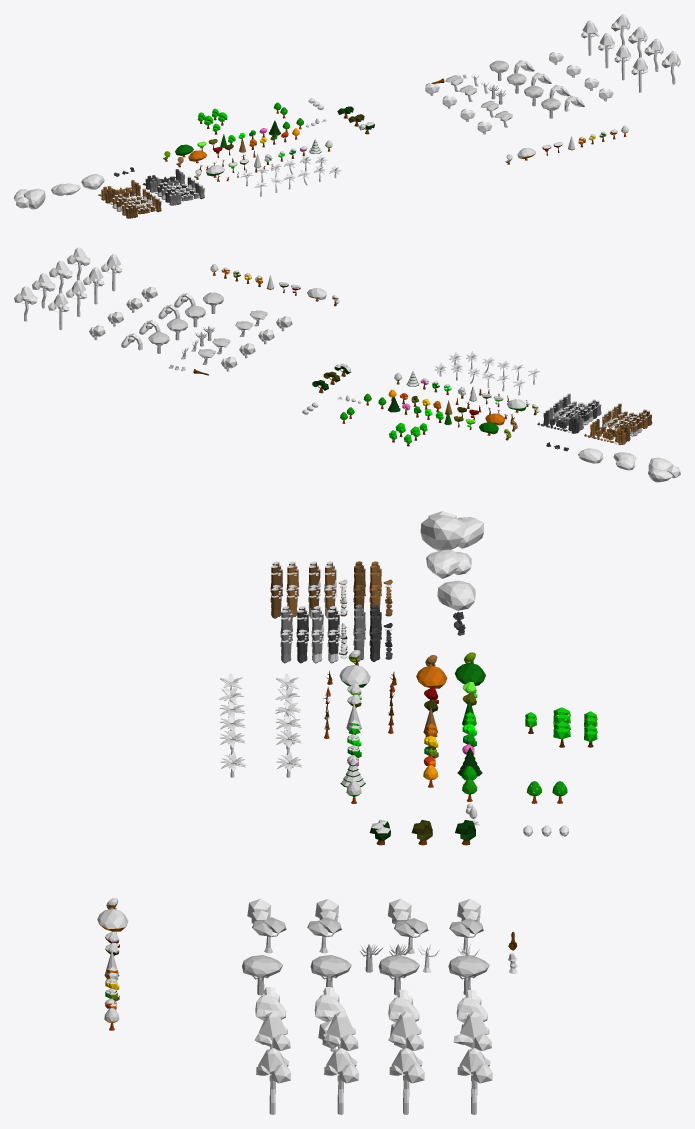
The model's file is Low Poly Pack Trees Rocks.fbx.
The picture shows the model from 3 angles, top to bottom: view 1: azimuth 30°, elevation 25°; view 2: azimuth 150°, elevation 25°; view 3: azimuth 270°, elevation 25°; orthographic projection. The views are drawn at different scales.
Parts seen in each view (by area): view 1: Cloud 3; view 2: Cloud 3; view 3: Cloud 3, Fall Tree 18, Tree 18, Winter Tree 18, Winter/Fall Tree 18, Cloud 2, Tree 17, Cloud 1, Winter/Fall Tree 17, Fall Tree 17, Winter Tree 17.
Boxes of the visible parts, box(x1,y1,x2,y2) form: Cloud 3: box(14, 188, 45, 209); Cloud 3: box(648, 457, 680, 482); Cloud 3: box(420, 511, 483, 551); Fall Tree 18: box(389, 1048, 424, 1114); Tree 18: box(457, 1048, 492, 1114); Winter Tree 18: box(324, 1048, 358, 1114); Winter/Fall Tree 18: box(256, 1048, 290, 1114); Cloud 2: box(426, 549, 471, 578); Tree 17: box(453, 1011, 491, 1080); Cloud 1: box(437, 580, 475, 610); Winter/Fall Tree 17: box(254, 1011, 290, 1080); Fall Tree 17: box(388, 1011, 423, 1080); Winter Tree 17: box(324, 1011, 358, 1080).
Size of the model in its own units: 228 by 15.26 by 79.24.
